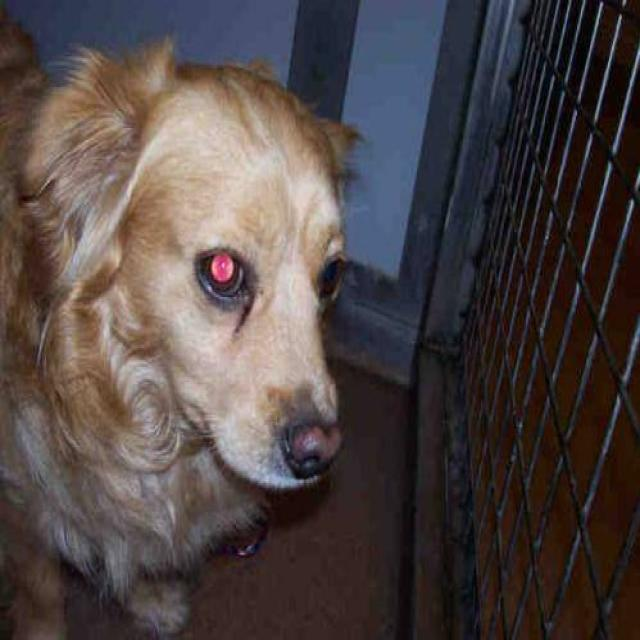Dog: (26, 31, 359, 502)
